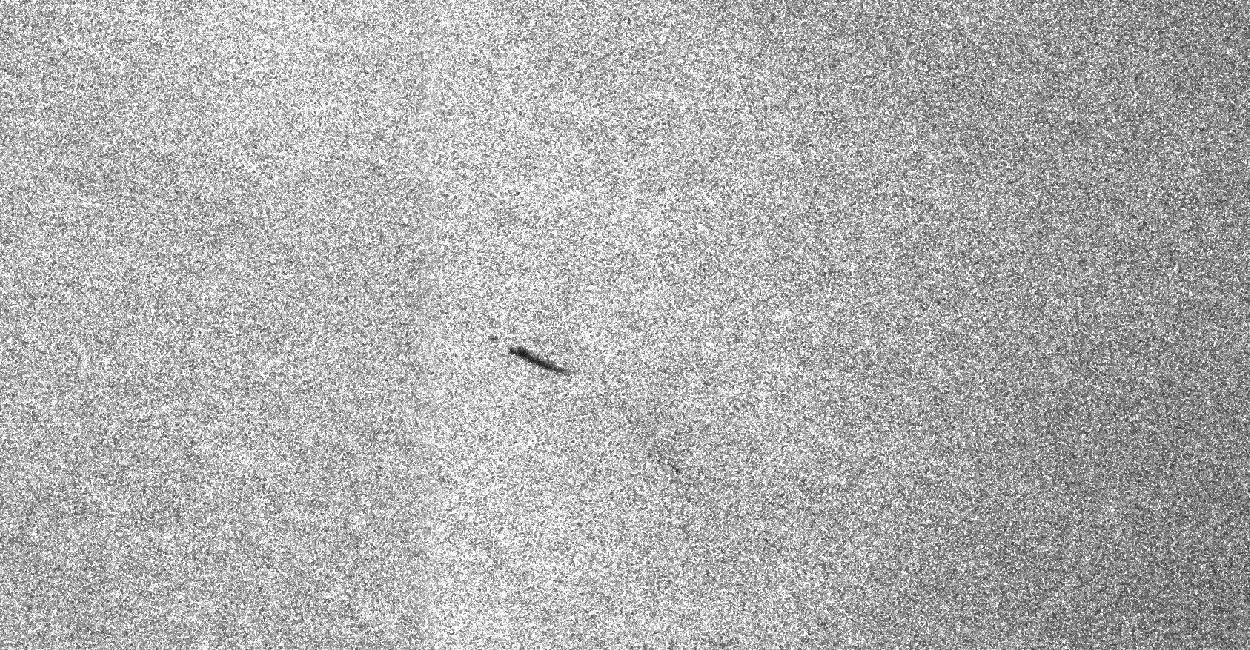Oil Spill: (504, 342, 570, 376), (484, 332, 500, 344)
